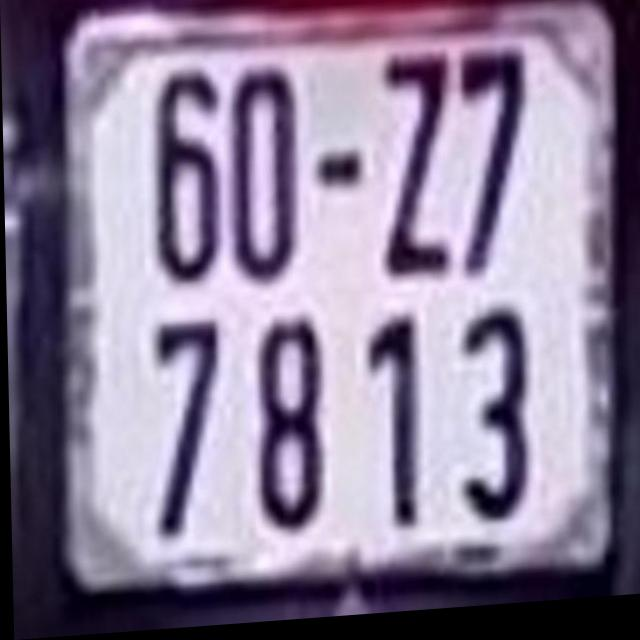0: (228, 74, 299, 283)
1: (365, 326, 424, 542)
3: (456, 310, 526, 528)
6: (157, 76, 220, 287)
7: (456, 48, 530, 289), (152, 321, 225, 552)
8: (251, 320, 325, 535)
Z: (380, 58, 446, 276)
